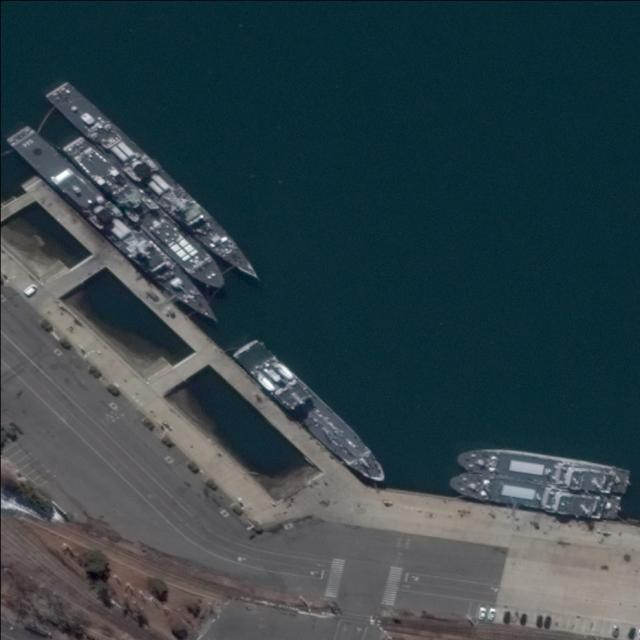Frigate: (5, 117, 226, 334), (45, 74, 265, 290)
Landing: (231, 333, 390, 491), (456, 442, 630, 495), (447, 472, 624, 519)
Other Warship: (61, 130, 234, 301)
